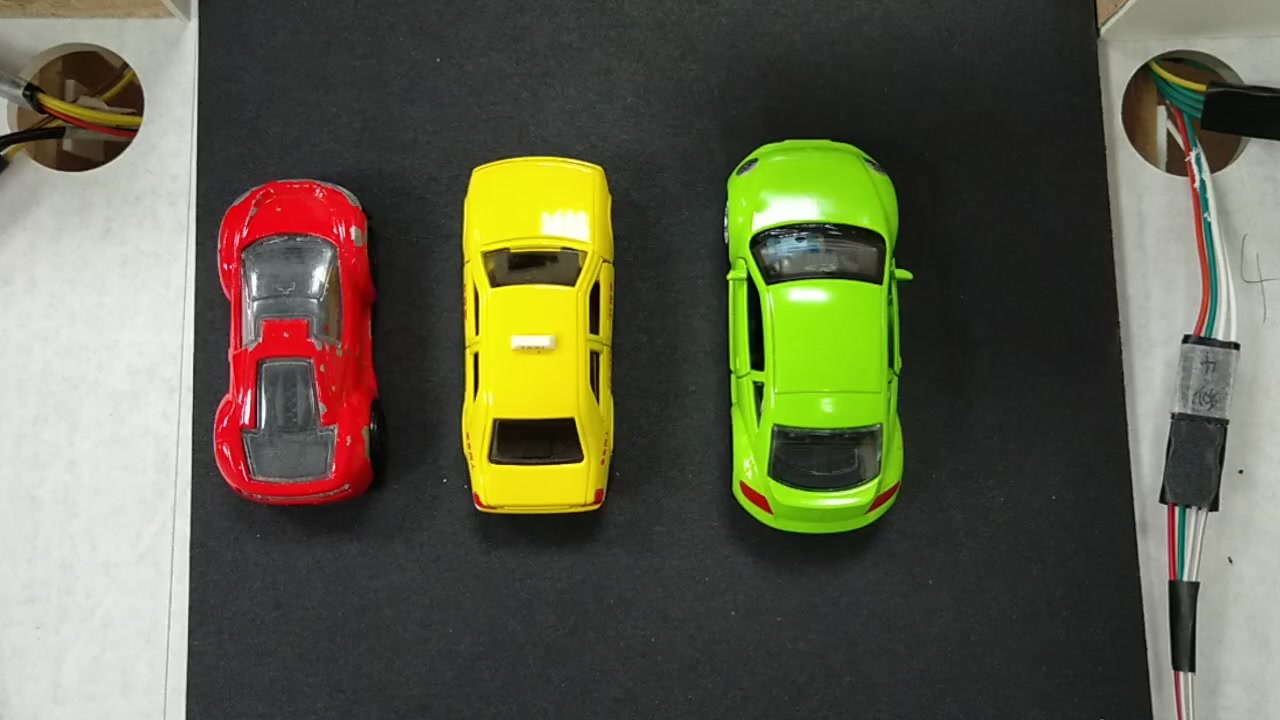car: (714, 140, 910, 531), (462, 161, 611, 517), (214, 186, 373, 499)
